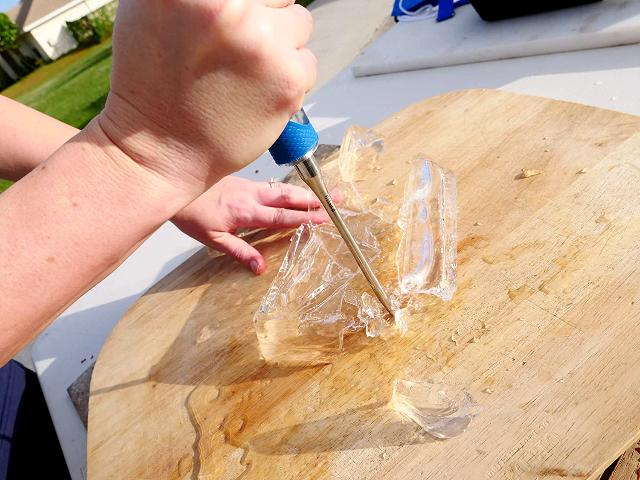ice pick: (268, 108, 398, 320)
